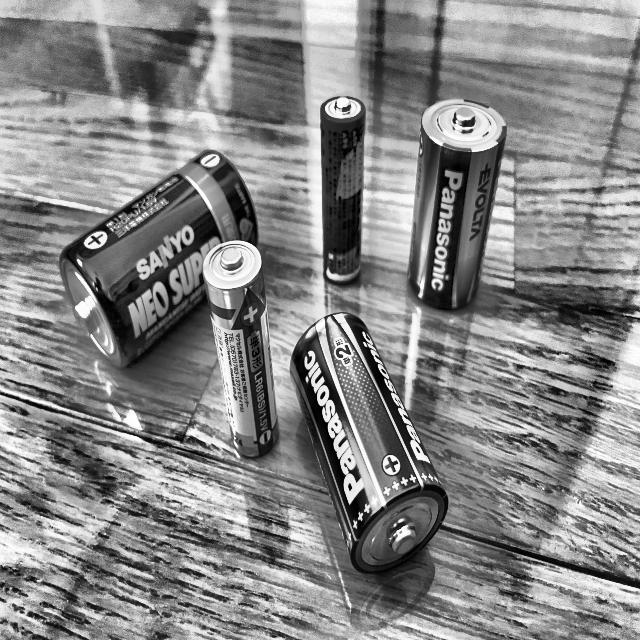drycell: (54, 144, 265, 371), (190, 233, 290, 462)
